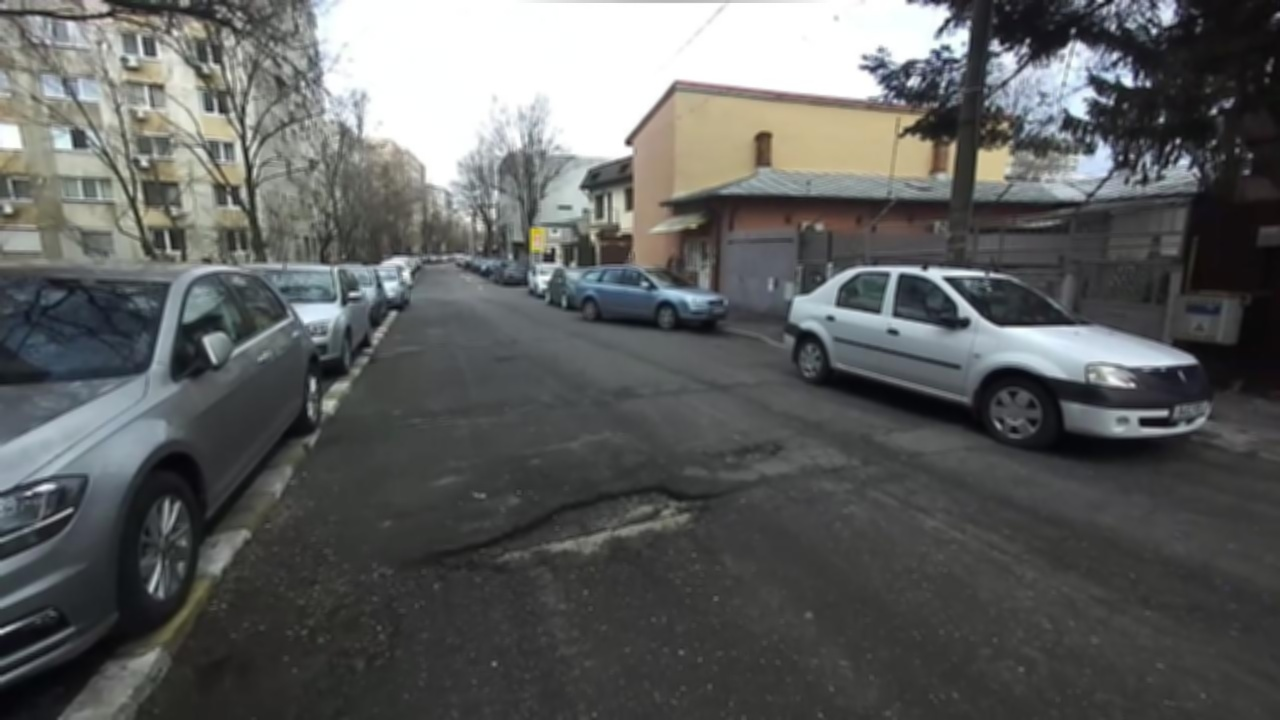pothole: (411, 479, 753, 573), (708, 434, 792, 465)
